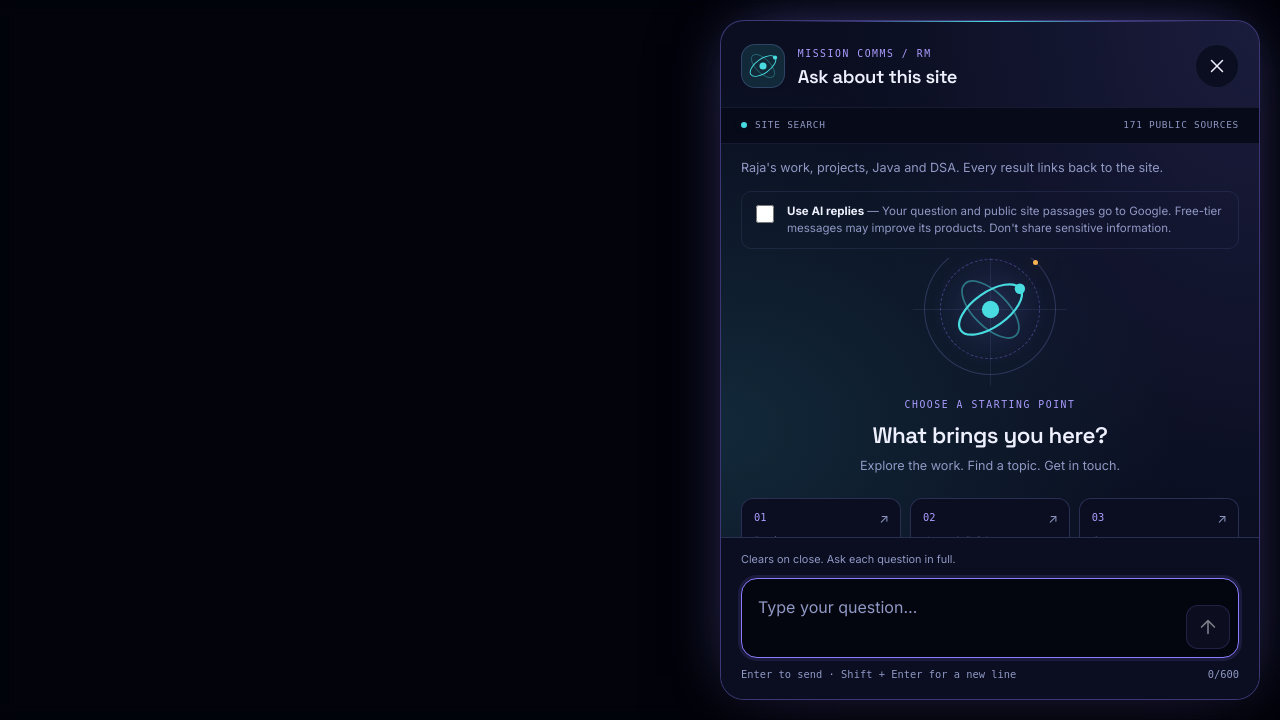
Test case: AI is opt-in and failure retains local results
(page scrolled)
Click the checkbox: x=765, y=214 x1=756 y1=205 x2=774 y2=223
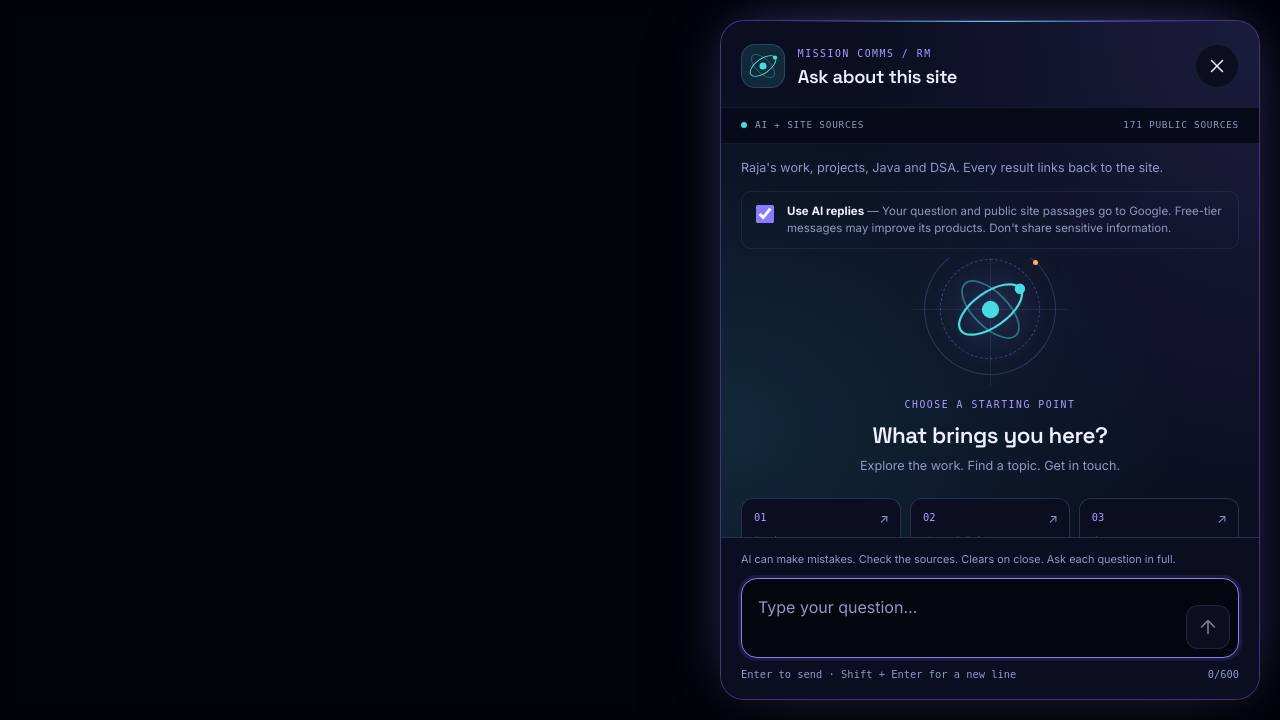
In the text box labelled "your question": x=964, y=618 x1=750 y1=587 x2=1178 y2=649, type "Explain Two Sum"
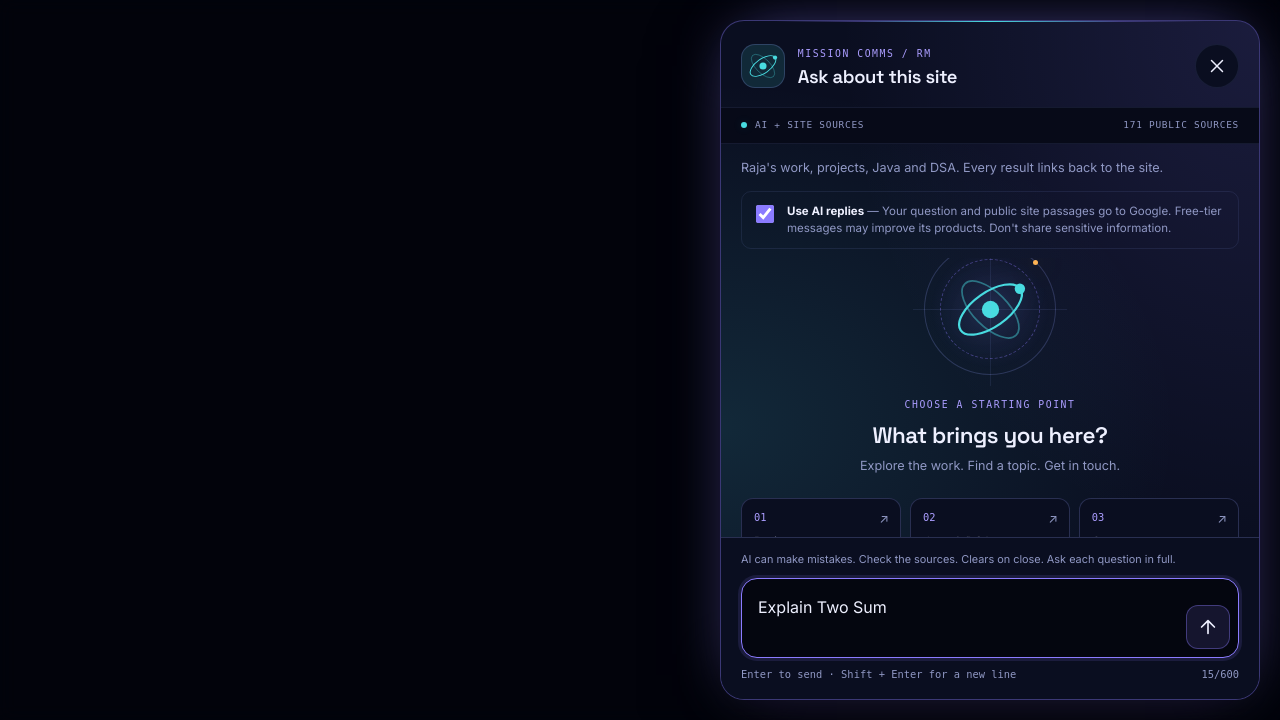
Click the button named "Send question": x=1208, y=627 x1=1186 y1=605 x2=1230 y2=649
(page scrolled)
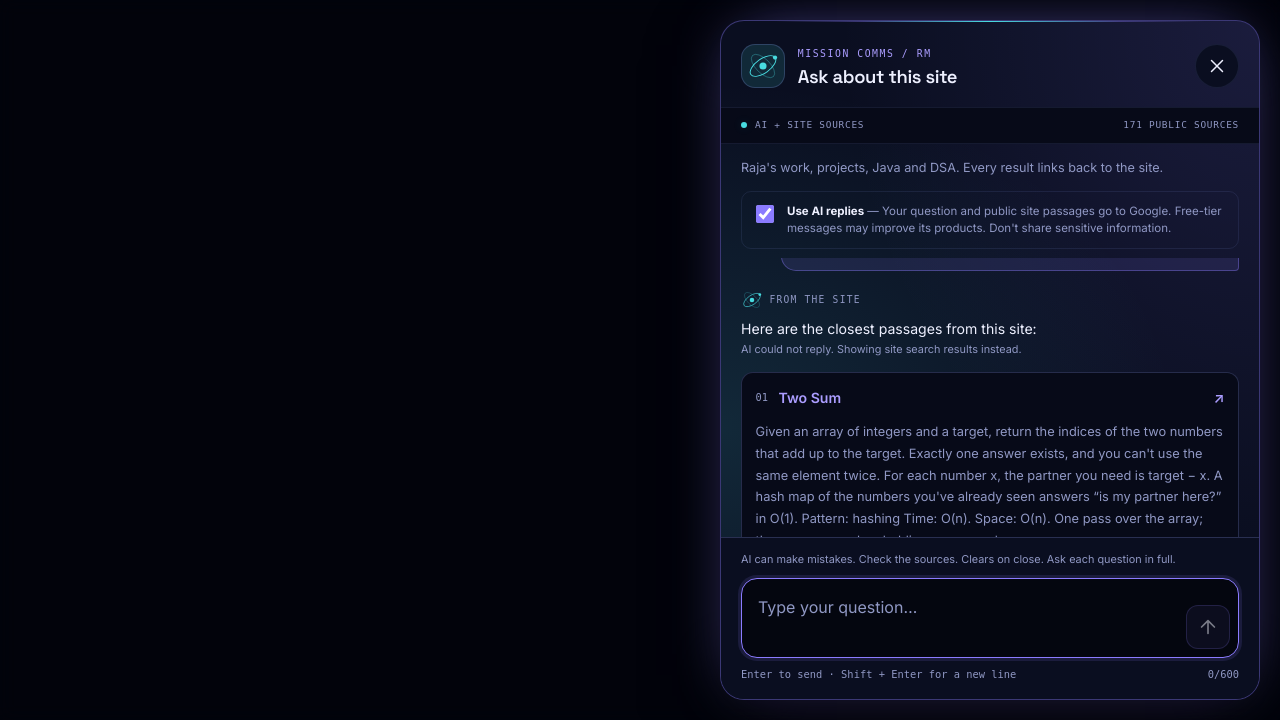
Now the text "AI could not reply. Showing site search results instead." is shown, box x1=741 y1=342 x2=1022 y2=356
Now the link "01 Two Sum ↗" is shown, box x1=756 y1=389 x2=1224 y2=406
